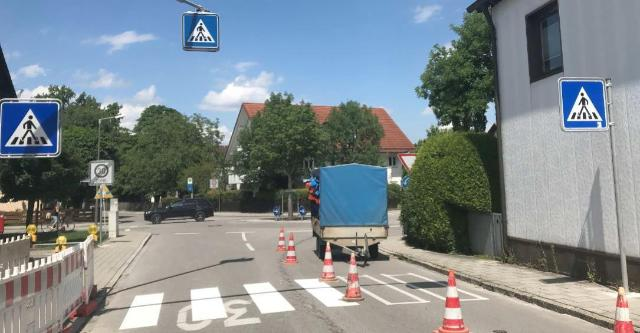crosswalk-sign: (2, 99, 63, 159), (559, 78, 610, 132), (182, 12, 220, 52)
